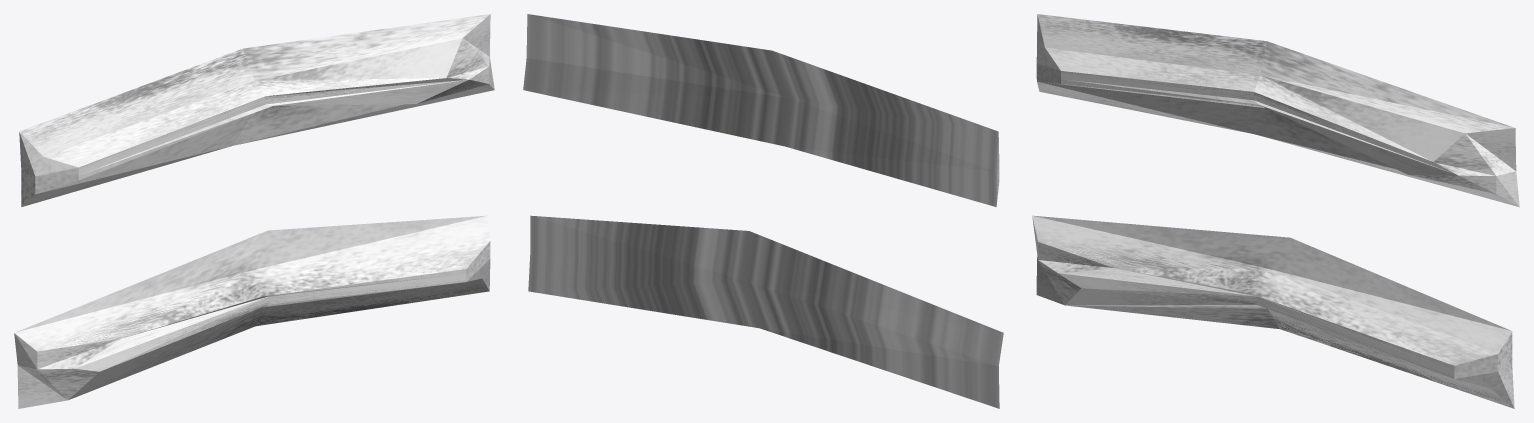
The model's file is snowmounds12x4_wtf.obj.
3 views of the same model, side by side, from view 1: azimuth 30°, elevation 25°; view 2: azimuth 150°, elevation 25°; view 3: azimuth 330°, elevation 25° (orthographic).
Visible parts, largest first — view 1: group3, group4; view 2: group3, group4; view 3: group3, group4.
Part boxes in pixels (x1=…): group3: x1=14, y1=215, x2=490, y2=408; group4: x1=19, y1=14, x2=494, y2=206; group3: x1=528, y1=215, x2=1003, y2=408; group4: x1=523, y1=14, x2=999, y2=206; group3: x1=1032, y1=215, x2=1514, y2=408; group4: x1=1036, y1=14, x2=1519, y2=207.
Size of the model in its own units: 660 by 399 by 47.19.
